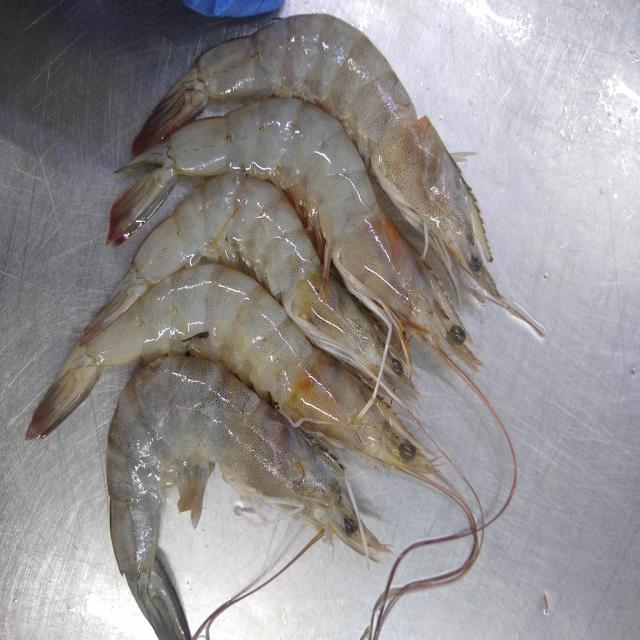shrimp: (131, 12, 542, 332), (147, 97, 482, 367), (25, 264, 436, 476), (105, 356, 387, 640), (88, 174, 385, 380)
